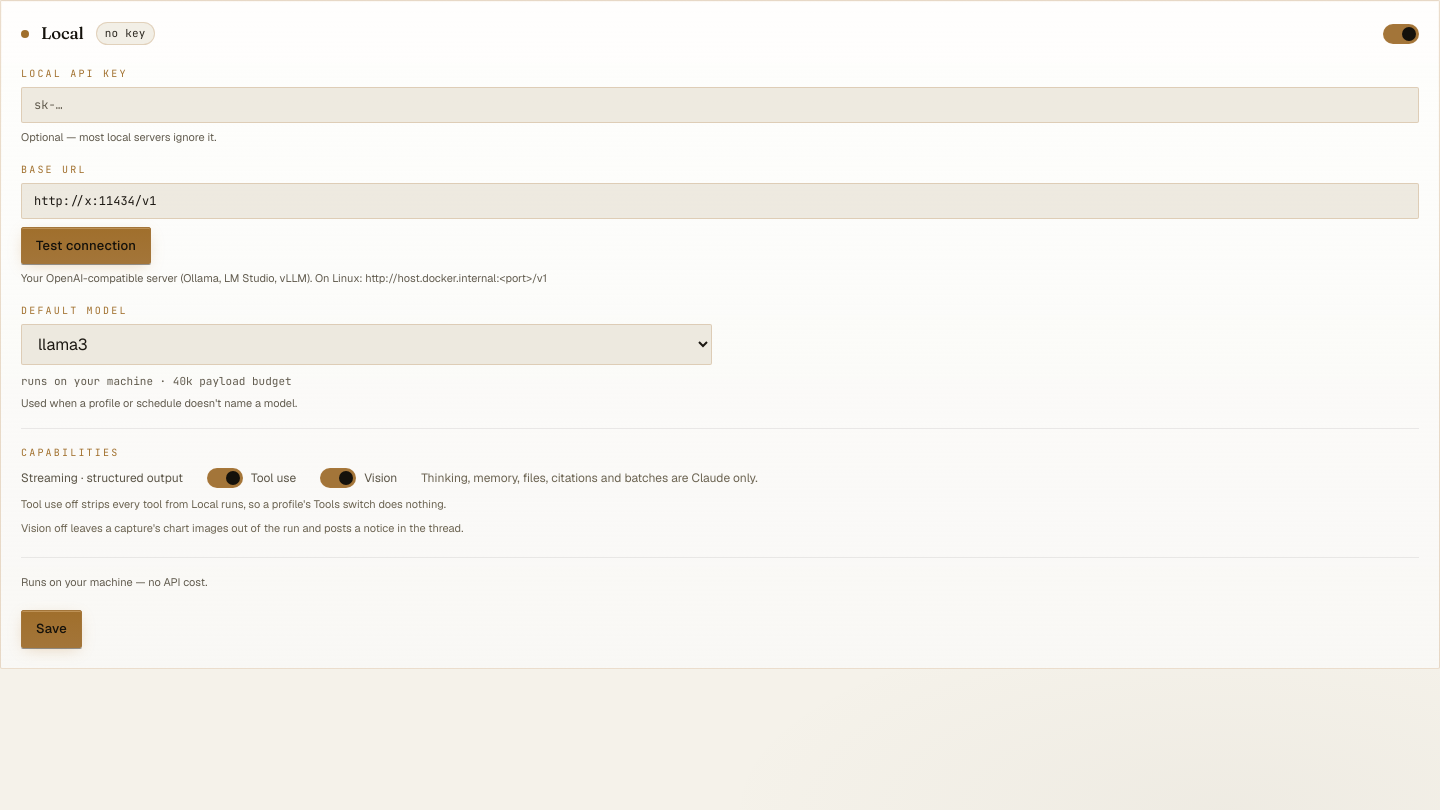
Scenario: ProviderCard — local provider › shows the friendly error when the probe reports ok:false
The width and height of the screenshot is (1440, 810).
Click the button "Test connection" at (86, 245), box [21,227,151,264]
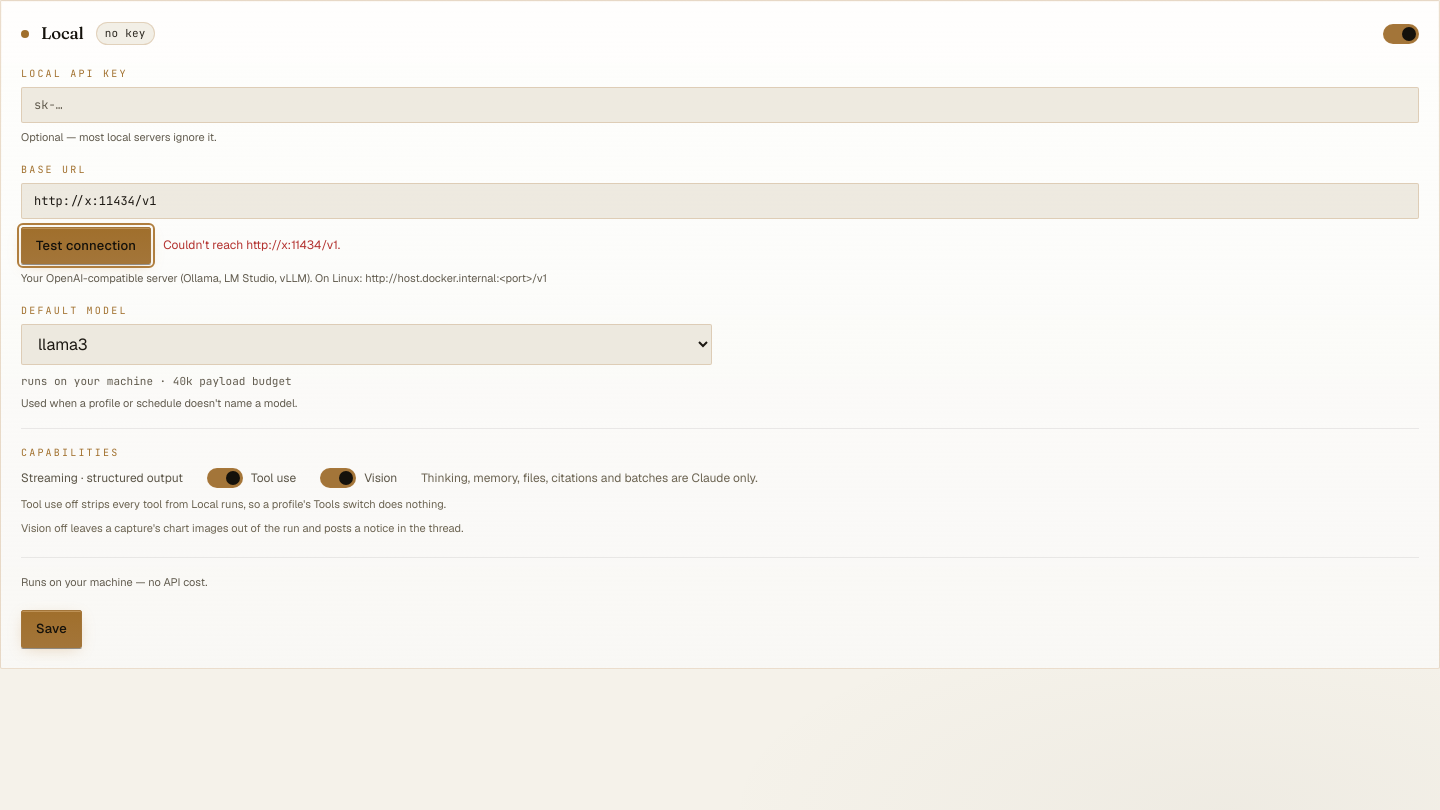
Now the text "Couldn't reach http://x:11434/v1." is shown, box [163,236,340,254]
